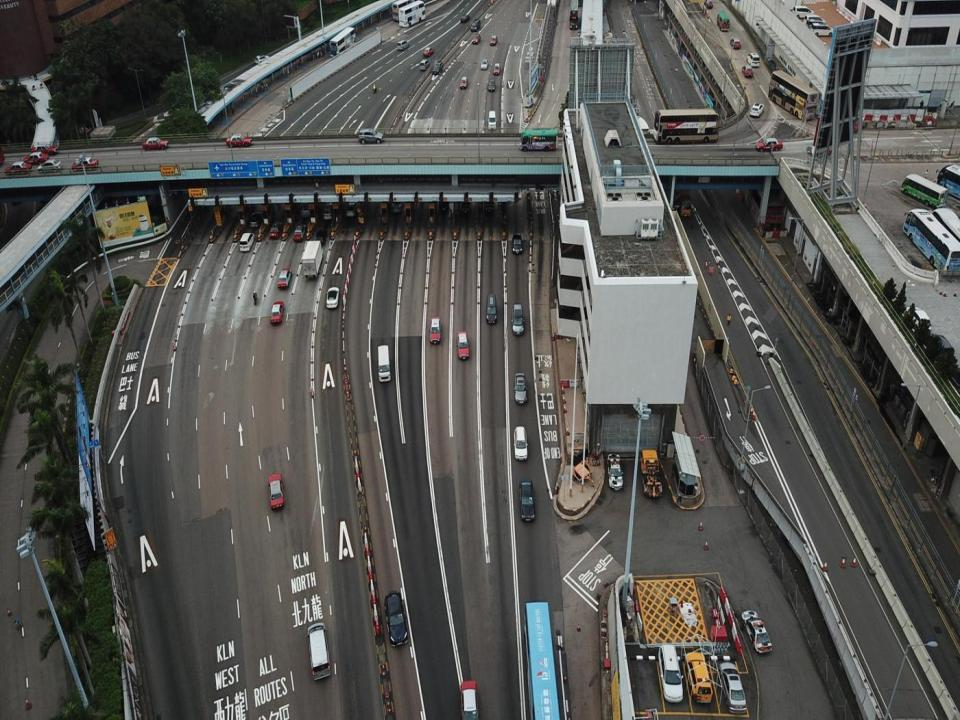bus: (903, 207, 960, 274), (767, 70, 819, 121), (653, 109, 719, 144), (928, 208, 960, 274), (900, 173, 947, 207), (935, 164, 960, 204), (329, 27, 356, 60), (520, 130, 557, 152), (398, 0, 425, 27), (392, 1, 420, 22), (568, 0, 579, 29), (717, 10, 730, 30)
car: (742, 608, 774, 652), (720, 660, 746, 712), (460, 680, 478, 719), (519, 480, 535, 522), (267, 472, 284, 510), (608, 453, 622, 491), (71, 156, 99, 171), (755, 137, 783, 152), (456, 331, 470, 360), (514, 372, 527, 403), (429, 316, 442, 344), (5, 160, 31, 174), (22, 152, 49, 165), (37, 158, 62, 172), (142, 137, 168, 150), (226, 134, 252, 147), (276, 268, 292, 288), (32, 144, 58, 156), (270, 302, 285, 322), (326, 287, 338, 309), (313, 229, 327, 247), (269, 220, 282, 239), (511, 232, 522, 254), (749, 102, 764, 118), (346, 199, 358, 217), (293, 224, 306, 240), (392, 195, 403, 213), (76, 125, 92, 137), (250, 212, 261, 227), (254, 54, 270, 64), (741, 64, 752, 78), (461, 195, 470, 212), (440, 196, 449, 212), (485, 195, 494, 211), (768, 59, 778, 73), (730, 37, 740, 50), (422, 46, 434, 56), (460, 76, 468, 89), (480, 58, 488, 70), (489, 34, 498, 44), (488, 78, 495, 90), (472, 34, 480, 44), (494, 63, 501, 74), (460, 15, 470, 22), (704, 1, 713, 8)
truck: (523, 601, 561, 719), (640, 448, 662, 497), (671, 174, 692, 216), (302, 240, 323, 278)
van: (657, 645, 683, 704), (686, 652, 712, 703), (306, 623, 329, 680), (385, 590, 408, 647), (377, 344, 391, 382), (514, 426, 527, 460), (511, 304, 524, 335), (485, 294, 498, 324), (810, 22, 834, 37), (358, 128, 383, 142), (791, 6, 815, 20), (300, 197, 316, 216), (239, 232, 254, 252), (805, 19, 826, 33), (804, 14, 826, 27), (323, 202, 337, 220), (488, 109, 497, 130), (746, 53, 760, 66), (431, 61, 443, 74), (419, 58, 431, 70), (396, 40, 409, 50), (470, 18, 480, 31)
